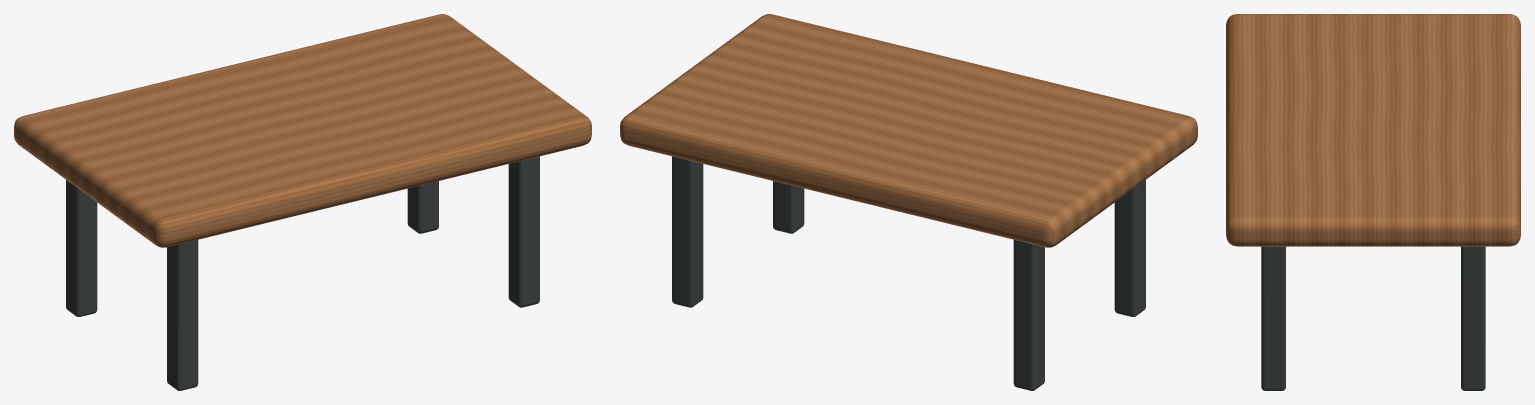
Rendered from coffee_v06a.glb.
3 renders of one model, left to right at view 1: azimuth 30°, elevation 25°; view 2: azimuth 150°, elevation 25°; view 3: azimuth 270°, elevation 25°, orthographic.
Parts seen in each view (by area): view 1: VIS_CoffeeTop, VIS_CoffeeSupportFeet; view 2: VIS_CoffeeTop, VIS_CoffeeSupportFeet; view 3: VIS_CoffeeTop, VIS_CoffeeSupportFeet.
Boxes of the visible parts, x1,y1,x2,y2 form: VIS_CoffeeTop: (14,14,591,247); VIS_CoffeeSupportFeet: (66,156,539,390); VIS_CoffeeTop: (620,14,1197,247); VIS_CoffeeSupportFeet: (672,156,1145,390); VIS_CoffeeTop: (1226,14,1520,246); VIS_CoffeeSupportFeet: (1261,246,1485,390).
Bounding box in the file's own units: 1.1 × 0.459 × 0.65.
2 materials, 1 textured.
